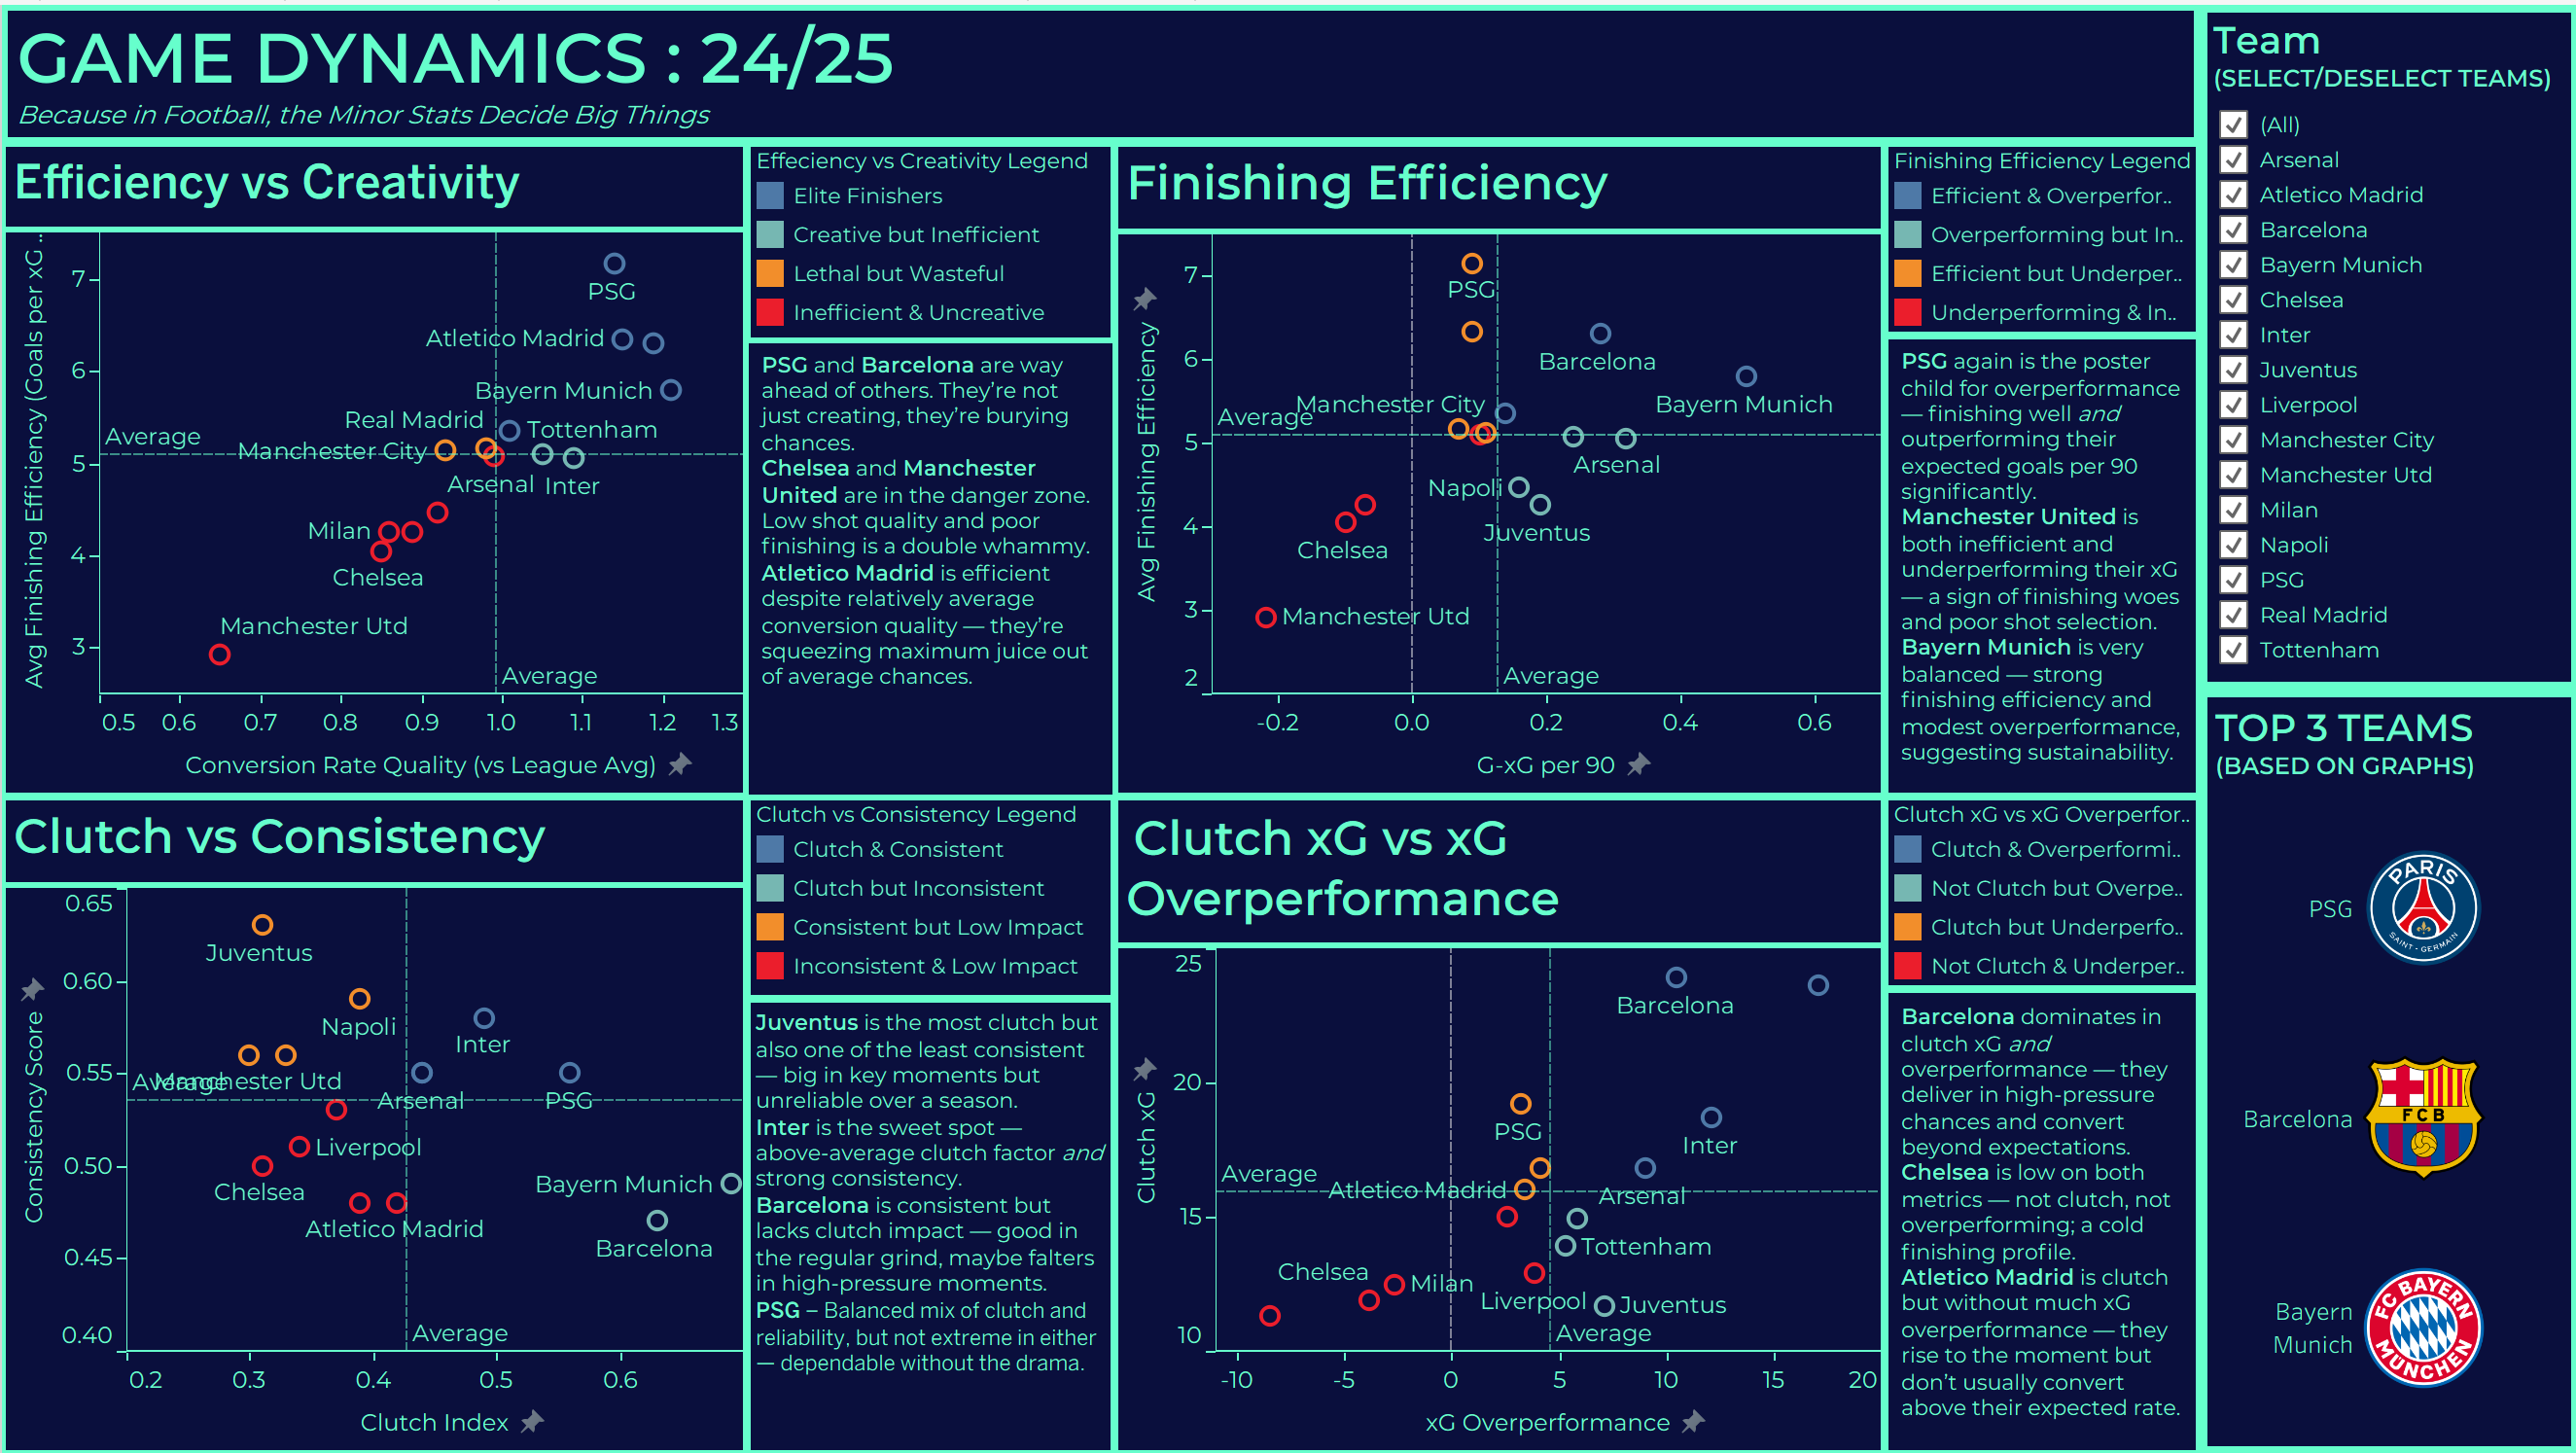

What the dashboard file says about the page in this screenshot:
{"tool":"tableau","page":{"name":"Game Dynamics : 24/25","canvas":[1000,1000],"units":"permille","ordinal":0},"visuals":[{"type":"title","box":[0,0,852.8,95.3]},{"type":"filter","title":"Efficiency vs Creativity","param":"[federated.0acamj20dxfr4k105cc1v0zwwhdi].[none:Team:nk]","box":[852.8,0,147.2,472.5]},{"type":"worksheet","title":"Efficiency vs Creativity","mark":"Automatic","rows":["Avg Finishing Efficiency"],"cols":["Conversion Rate Quality"],"box":[0,95.3,289.1,451]},{"type":"legend","title":"Efficiency vs Creativity","param":"[federated.0acamj20dxfr4k105cc1v0zwwhdi].[none:Calculation_1377820051255971869:n","box":[289.1,95.3,142.7,136.9]},{"type":"worksheet","title":"Finishing Efficiency","mark":"Automatic","rows":["Avg Finishing Efficiency"],"cols":["G-xG per 90"],"box":[431.7,95.3,298.9,451.6]},{"type":"legend","title":"Finishing Efficiency","param":"[federated.0acamj20dxfr4k105cc1v0zwwhdi].[none:Calculation_1377820051247202328:n","box":[730.6,95.3,122.3,132.7]},{"type":"text","box":[732.1,230.7,119.2,313]},{"type":"text","box":[289.8,233.5,141.2,255]},{"type":"worksheet","title":"Sheet 10","mark":"Shape","rows":["Team"],"cols":["Calculation_397161230153289728"],"box":[855.9,477.9,141.1,516.8]},{"type":"worksheet","title":"Clutch vs Consistency","mark":"Automatic","rows":["Consistency Score"],"cols":["Clutch Index"],"box":[0,546.3,289.1,453.7]},{"type":"legend","title":"Clutch vs Consistency","param":"[federated.0acamj20dxfr4k105cc1v0zwwhdi].[none:Calculation_1377820051227779091:n","box":[289.1,546.3,142.7,139.6]},{"type":"legend","title":" Clutch xG vs xG Overperformance","param":"[federated.0acamj20dxfr4k105cc1v0zwwhdi].[none:Calculation_1377820051253657627:n","box":[730.6,546.3,122.3,132.7]},{"type":"worksheet","title":" Clutch xG vs xG Overperformance","mark":"Automatic","rows":["Total Clutch xG"],"cols":["Total xG Overperformance"],"box":[431.7,546.9,298.9,453.1]},{"type":"text","box":[732.1,681.7,119.2,315.6]},{"type":"text","box":[290.6,688.6,139.6,272.5]}]}

Visuals, with their boxes on the dashboard's canvas, which has no fixed pixel size, in thousandths of its width and height (x1, y1, x2, y2). These are canvas units, not pixel positions in the 2576x1453 screenshot, which may show the page scaled, cropped or inside an application window:
title: {"left": 0, "top": 0, "right": 853, "bottom": 95}
"Efficiency vs Creativity" filter: {"left": 853, "top": 0, "right": 1000, "bottom": 472}
"Efficiency vs Creativity" worksheet: {"left": 0, "top": 95, "right": 289, "bottom": 546}
"Efficiency vs Creativity" legend: {"left": 289, "top": 95, "right": 432, "bottom": 232}
"Finishing Efficiency" worksheet: {"left": 432, "top": 95, "right": 731, "bottom": 547}
"Finishing Efficiency" legend: {"left": 731, "top": 95, "right": 853, "bottom": 228}
text: {"left": 732, "top": 231, "right": 851, "bottom": 544}
text: {"left": 290, "top": 234, "right": 431, "bottom": 488}
"Sheet 10" worksheet (Shape marks): {"left": 856, "top": 478, "right": 997, "bottom": 995}
"Clutch vs Consistency" worksheet: {"left": 0, "top": 546, "right": 289, "bottom": 1000}
"Clutch vs Consistency" legend: {"left": 289, "top": 546, "right": 432, "bottom": 686}
" Clutch xG vs xG Overperformance" legend: {"left": 731, "top": 546, "right": 853, "bottom": 679}
" Clutch xG vs xG Overperformance" worksheet: {"left": 432, "top": 547, "right": 731, "bottom": 1000}
text: {"left": 732, "top": 682, "right": 851, "bottom": 997}
text: {"left": 291, "top": 689, "right": 430, "bottom": 961}
